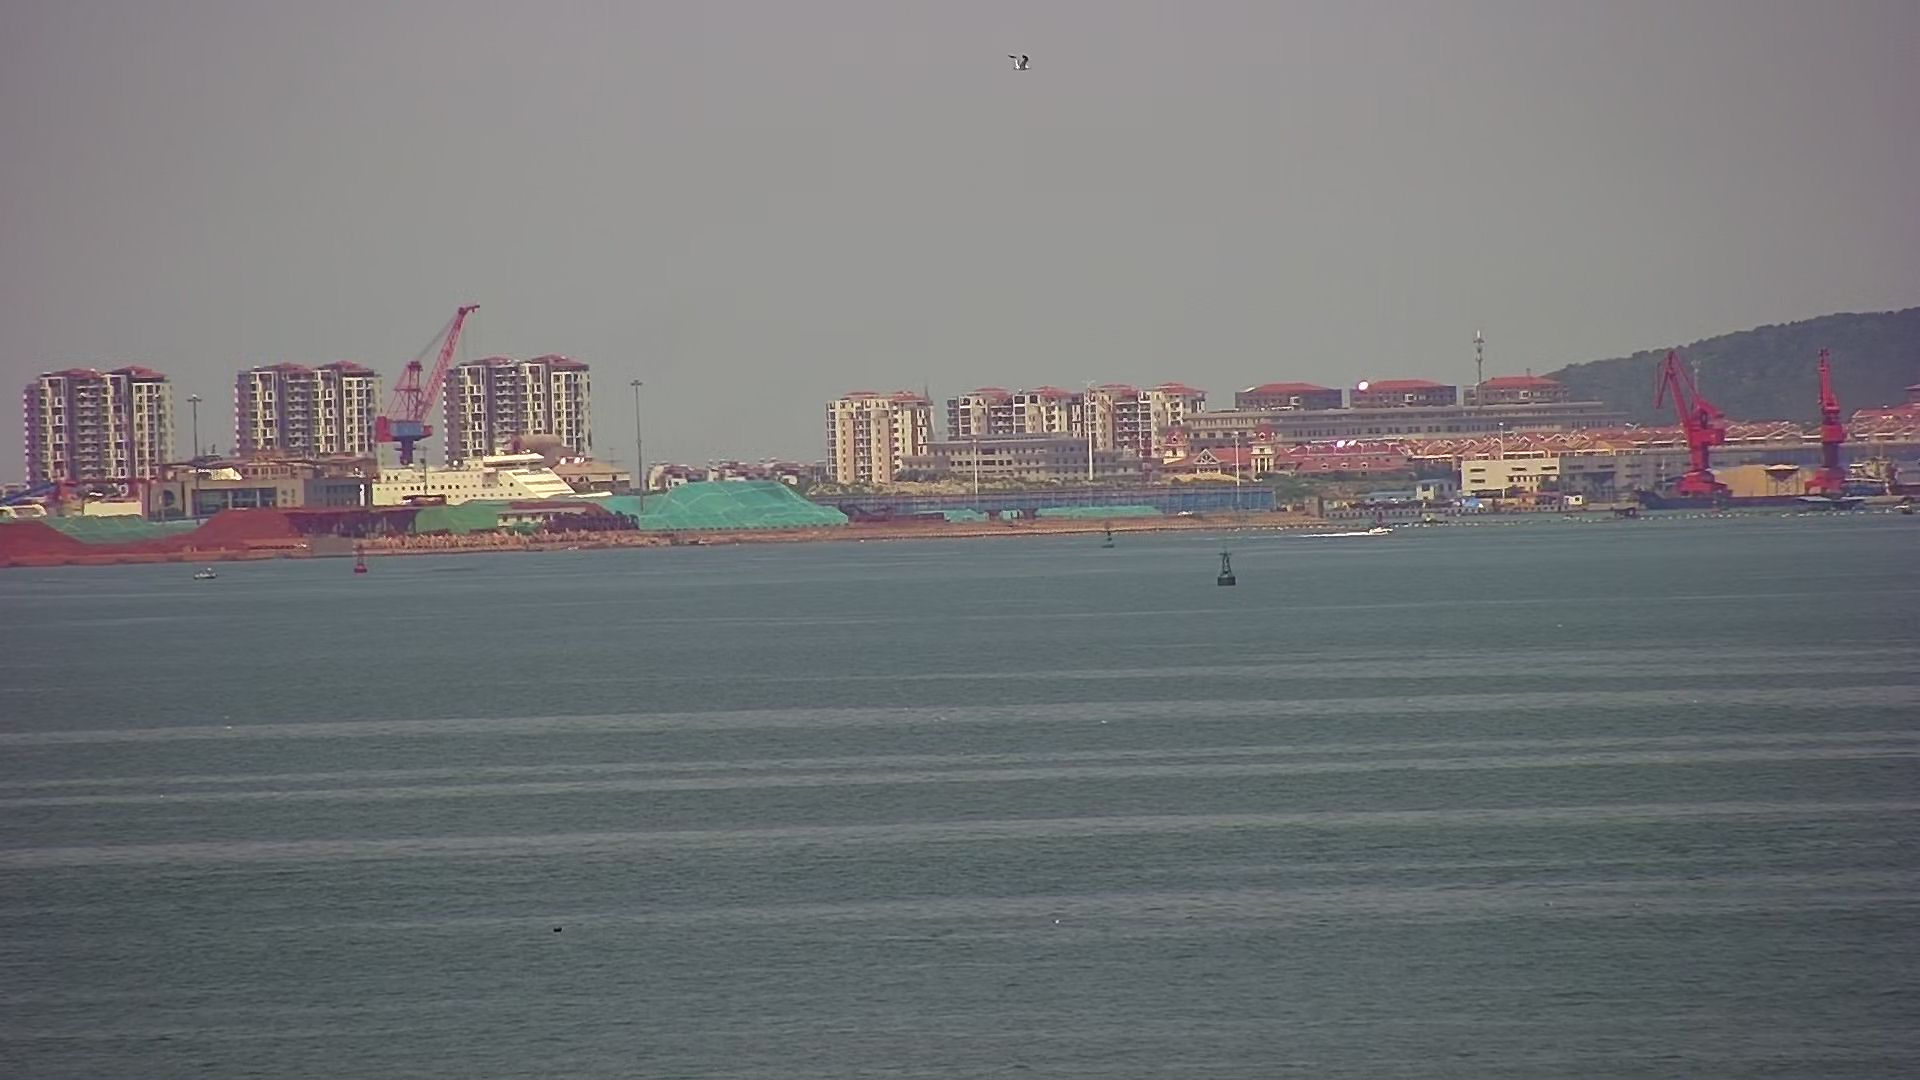buoy: (1215, 541, 1238, 589)
